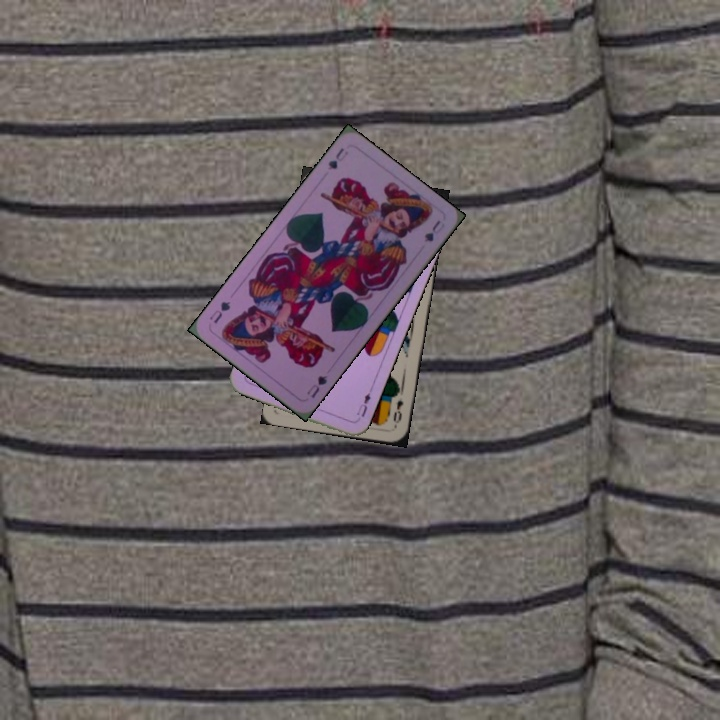EO: (389, 388, 406, 429)
EU: (353, 389, 373, 419)
GU: (303, 371, 330, 401), (324, 144, 351, 173)
